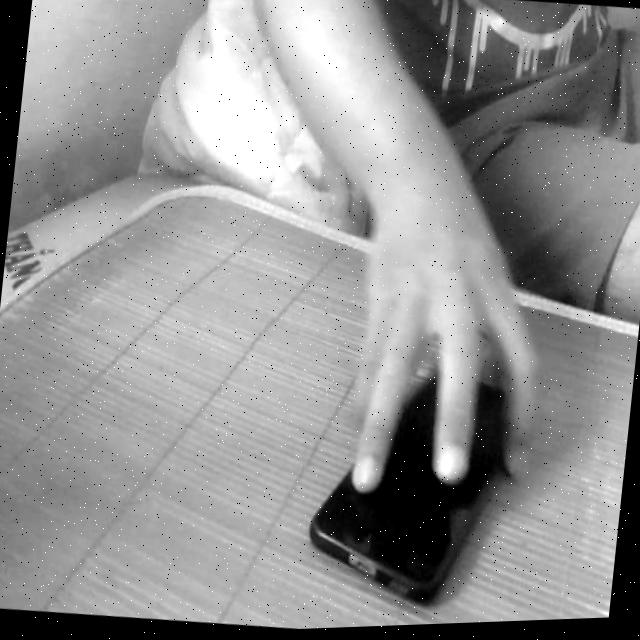phone: (296, 304, 544, 626)
